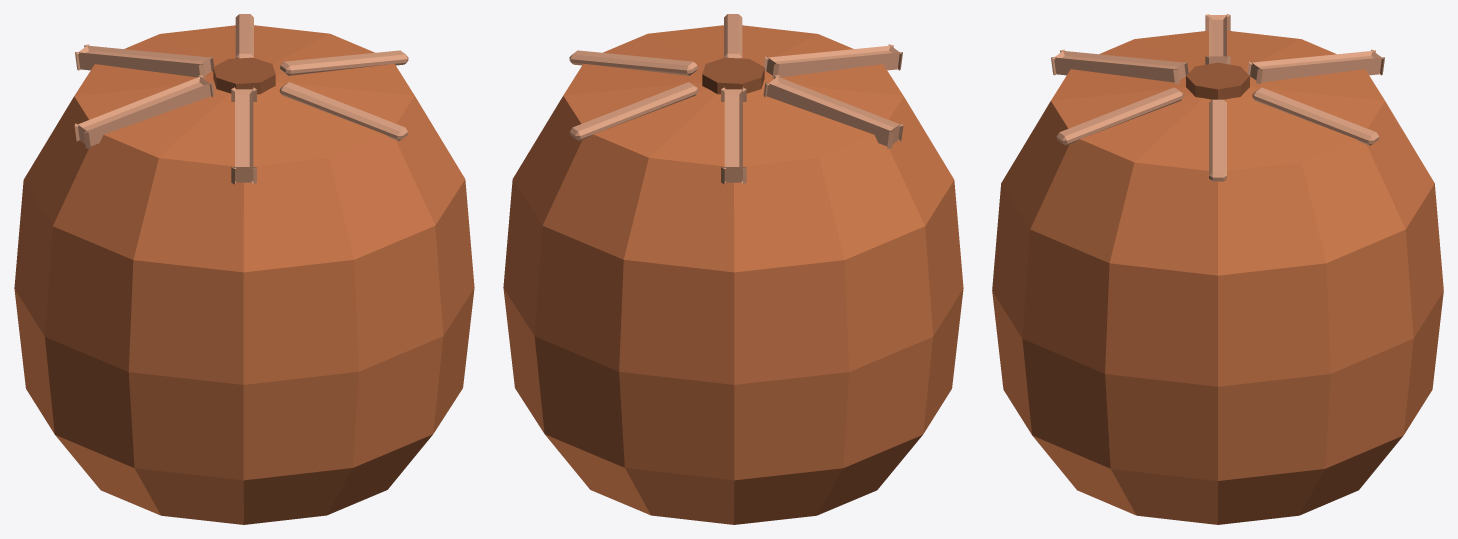
Rendered from puff.glb.
The picture shows the model from 3 angles, left to right: view 1: azimuth 30°, elevation 25°; view 2: azimuth 150°, elevation 25°; view 3: azimuth 270°, elevation 25°; orthographic projection.
Visible parts, largest first — view 1: puff_Body; view 2: puff_Body; view 3: puff_Body.
Boxes of the visible parts, x1,y1,x2,y2 form: puff_Body: [14, 14, 474, 524]; puff_Body: [503, 14, 963, 524]; puff_Body: [992, 14, 1443, 524].
Bounding box in the file's own units: 0.5 × 0.4612 × 0.496.
